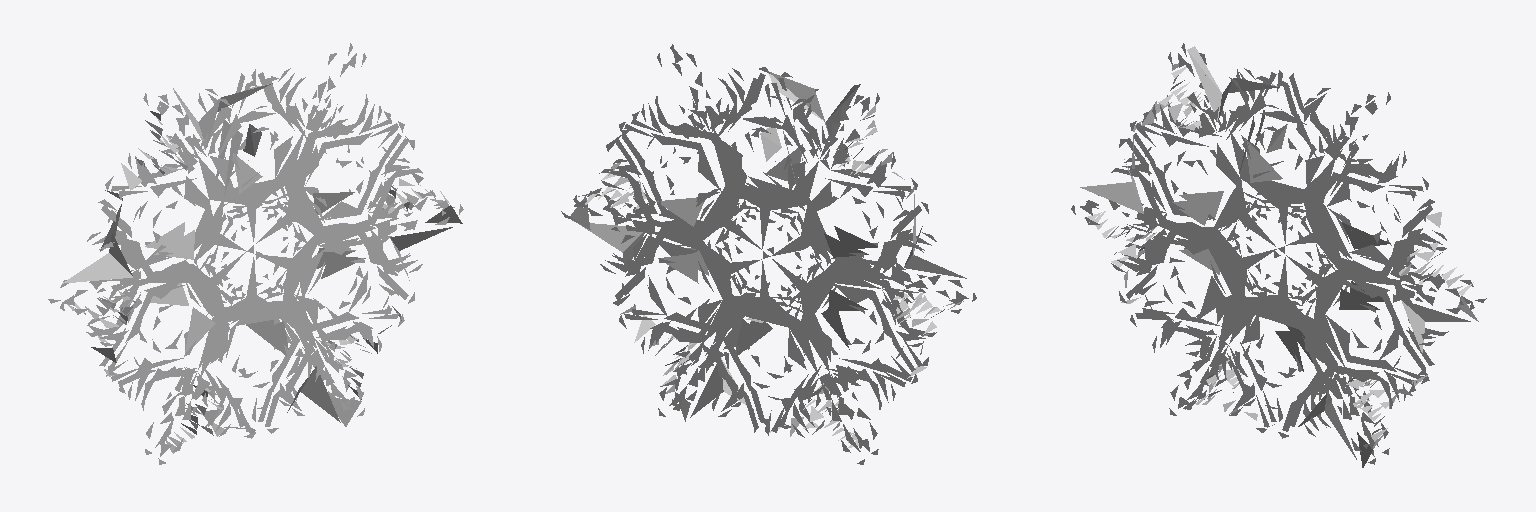
The model's file is snowFlake.obj.
3 views of the same model, side by side, from view 1: azimuth 30°, elevation 25°; view 2: azimuth 150°, elevation 25°; view 3: azimuth 330°, elevation 25° (orthographic).
Parts seen in each view (by area): view 1: Object_2, Object_3, Object_4; view 2: Object_3, Object_2, Object_4; view 3: Object_2, Object_3, Object_4.
Boxes of the visible parts, <box> form: Object_2: <box>48,43,463,464</box>; Object_3: <box>62,72,452,447</box>; Object_4: <box>111,83,291,292</box>; Object_3: <box>579,78,966,451</box>; Object_2: <box>561,44,976,464</box>; Object_4: <box>731,72,912,291</box>; Object_2: <box>1071,43,1486,467</box>; Object_3: <box>1080,72,1470,459</box>; Object_4: <box>1133,46,1316,227</box>.
Bounding box in the file's own units: 17.27 × 15.46 × 1.24.